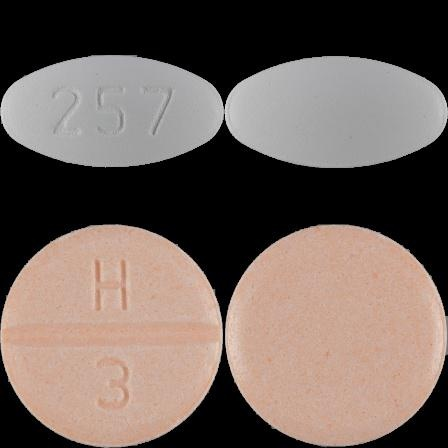61786-674: (0, 0, 224, 224)
